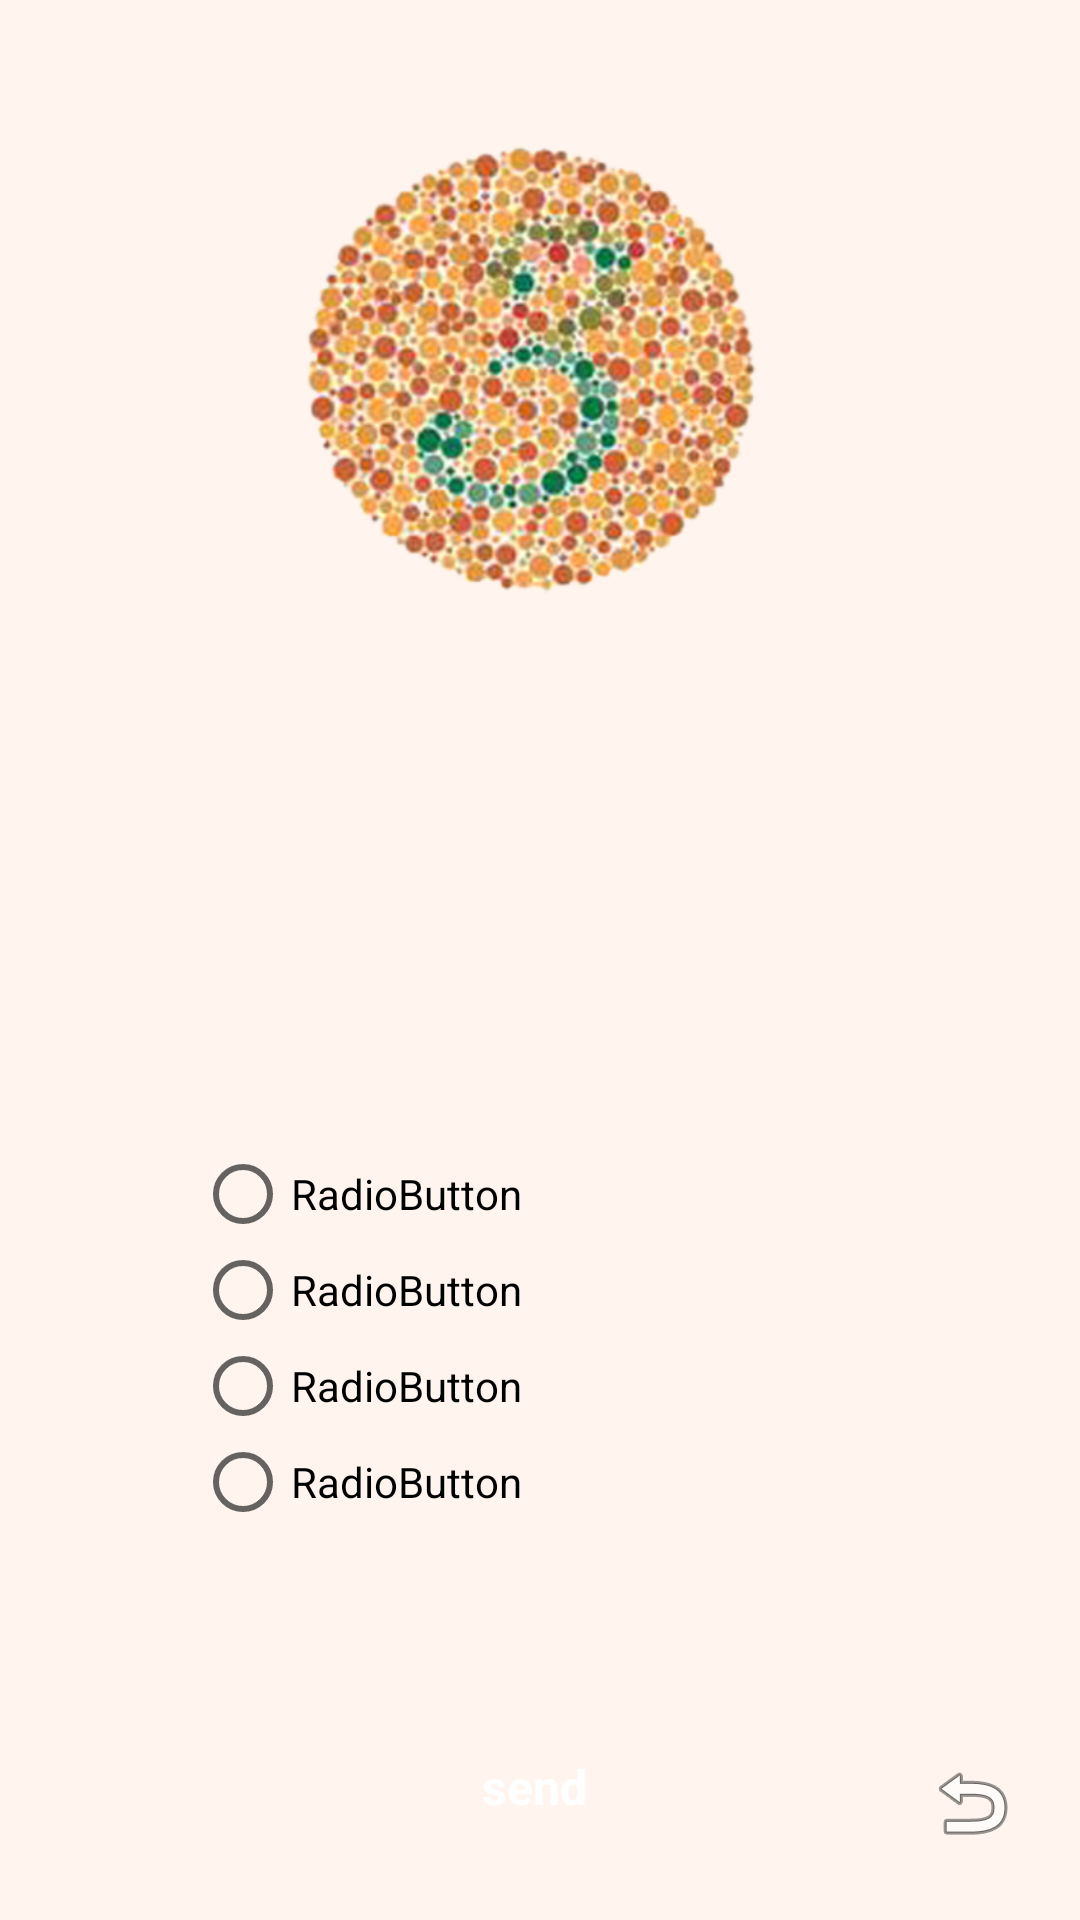

Screen size 1080px×1920px. Icon name, then its box in pixels as bbox=(x1, y1, x2, y2):
revert: bbox=(939, 1772, 1008, 1835)
